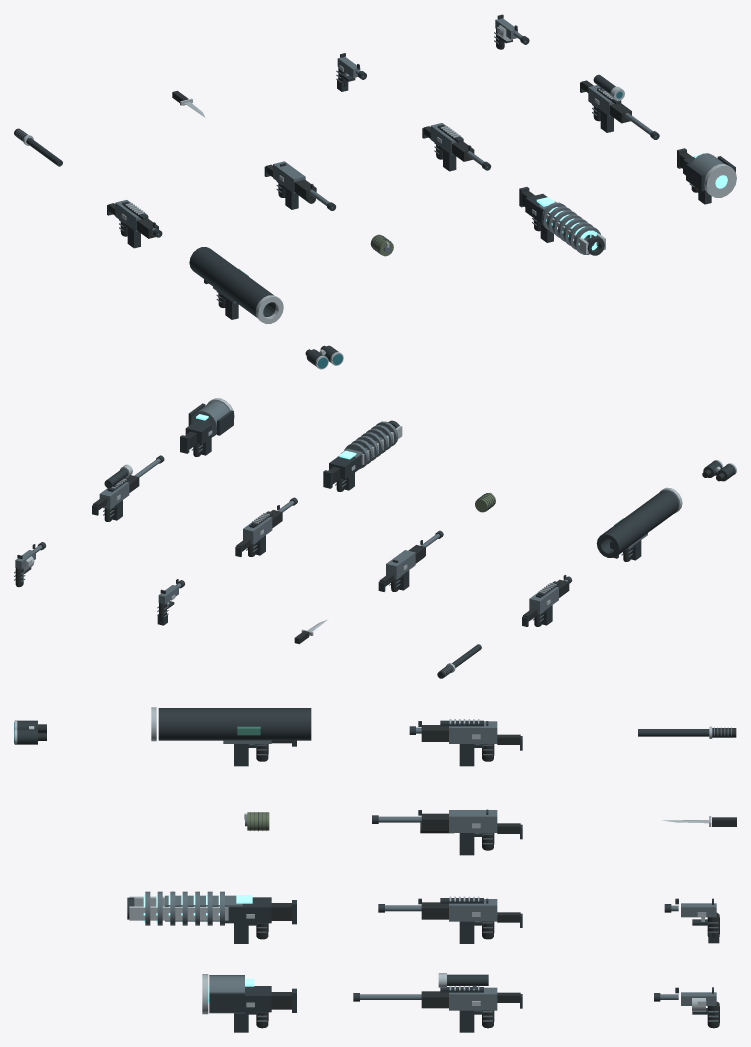
Rendered from dc019-equipment.glb.
3 views of the same model, one above another, from view 1: azimuth 30°, elevation 25°; view 2: azimuth 150°, elevation 25°; view 3: azimuth 270°, elevation 25° (orthographic). The views are drawn at different scales.
Parts seen in each view (by area): view 1: launcher_part5, gauss_part5, emp_part2, gauss_part0, shotgun_part0, emp_part0, sniper_part0; view 2: launcher_part5, gauss_part5, emp_part0, gauss_part0, shotgun_part0, sniper_part0, emp_part5, rifle_part0, smg_part0; view 3: launcher_part5, gauss_part5, emp_part0, shotgun_part0, sniper_part0, gauss_part0, gauss_part2, rifle_part0, smg_part0, sniper_part3, shotgun_part4, sniper_part5 (+6 smaller).
Part boxes in pixels (left/top/right/bottom): launcher_part5: left=189, top=247, right=276, bottom=317; gauss_part5: left=538, top=201, right=600, bottom=254; emp_part2: left=704, top=164, right=736, bottom=197; gauss_part0: left=519, top=187, right=604, bottom=255; shotgun_part0: left=273, top=161, right=333, bottom=208; emp_part0: left=677, top=148, right=735, bottom=191; sniper_part0: left=588, top=85, right=656, bottom=137; launcher_part5: left=596, top=490, right=678, bottom=557; gauss_part5: left=341, top=421, right=398, bottom=468; emp_part0: left=180, top=403, right=233, bottom=453; gauss_part0: left=323, top=420, right=399, bottom=488; shotgun_part0: left=386, top=533, right=439, bottom=578; sniper_part0: left=99, top=458, right=160, bottom=508; emp_part5: left=191, top=401, right=229, bottom=437; rifle_part0: left=243, top=500, right=294, bottom=544; smg_part0: left=529, top=579, right=568, bottom=613; launcher_part5: left=158, top=708, right=311, bottom=740; gauss_part5: left=145, top=891, right=242, bottom=925; emp_part0: left=209, top=975, right=296, bottom=1014; shotgun_part0: left=378, top=810, right=497, bottom=832; sniper_part0: left=360, top=985, right=497, bottom=1010; gauss_part0: left=127, top=897, right=296, bottom=925; gauss_part2: left=129, top=896, right=254, bottom=920; rifle_part0: left=385, top=899, right=497, bottom=921; smg_part0: left=416, top=721, right=497, bottom=743; sniper_part3: left=353, top=974, right=522, bottom=1014; shotgun_part4: left=420, top=813, right=520, bottom=833; sniper_part5: left=421, top=991, right=520, bottom=1008.
Bounding box in the file's own units: 4.31 × 0.405 × 4.65.
